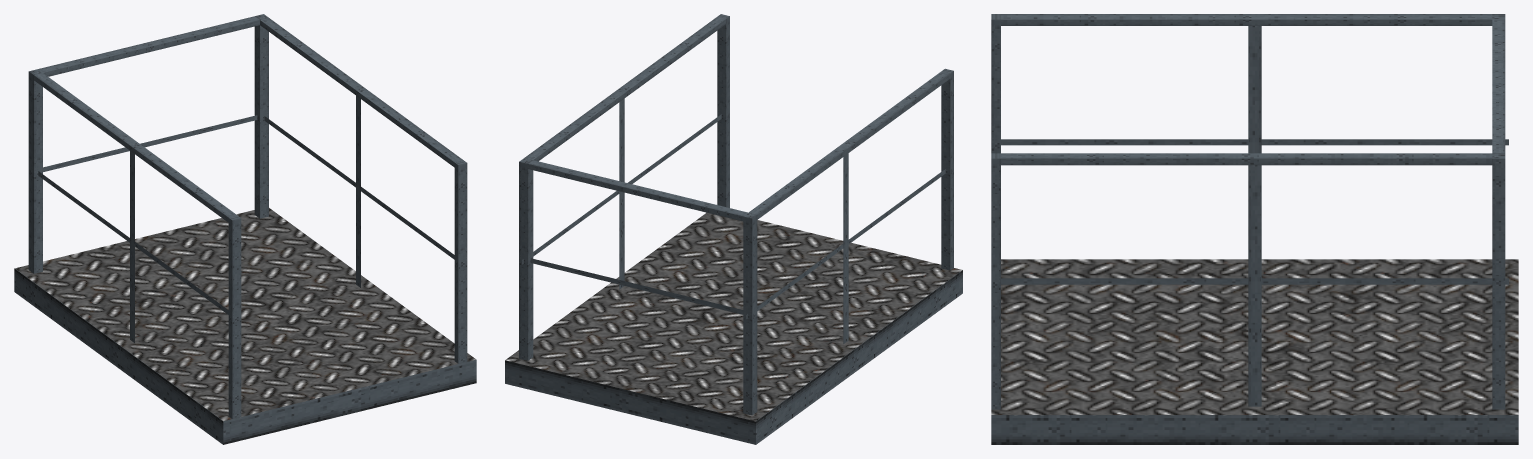
Rendered from mMetalCatwalkFullEnd01.obj.
3 views of the same model, side by side, from view 1: azimuth 30°, elevation 25°; view 2: azimuth 150°, elevation 25°; view 3: azimuth 270°, elevation 25° (orthographic). The views are drawn at different scales.
Parts seen in each view (by area): view 1: MetalCatwalkFullEnd01; view 2: MetalCatwalkFullEnd01; view 3: MetalCatwalkFullEnd01.
Boxes of the visible parts, x1,y1,x2,y2 form: MetalCatwalkFullEnd01: (14,14,476,444); MetalCatwalkFullEnd01: (505,14,962,444); MetalCatwalkFullEnd01: (991,14,1518,444).
Bounding box in the file's own units: 2.8 × 2.35 × 4.
